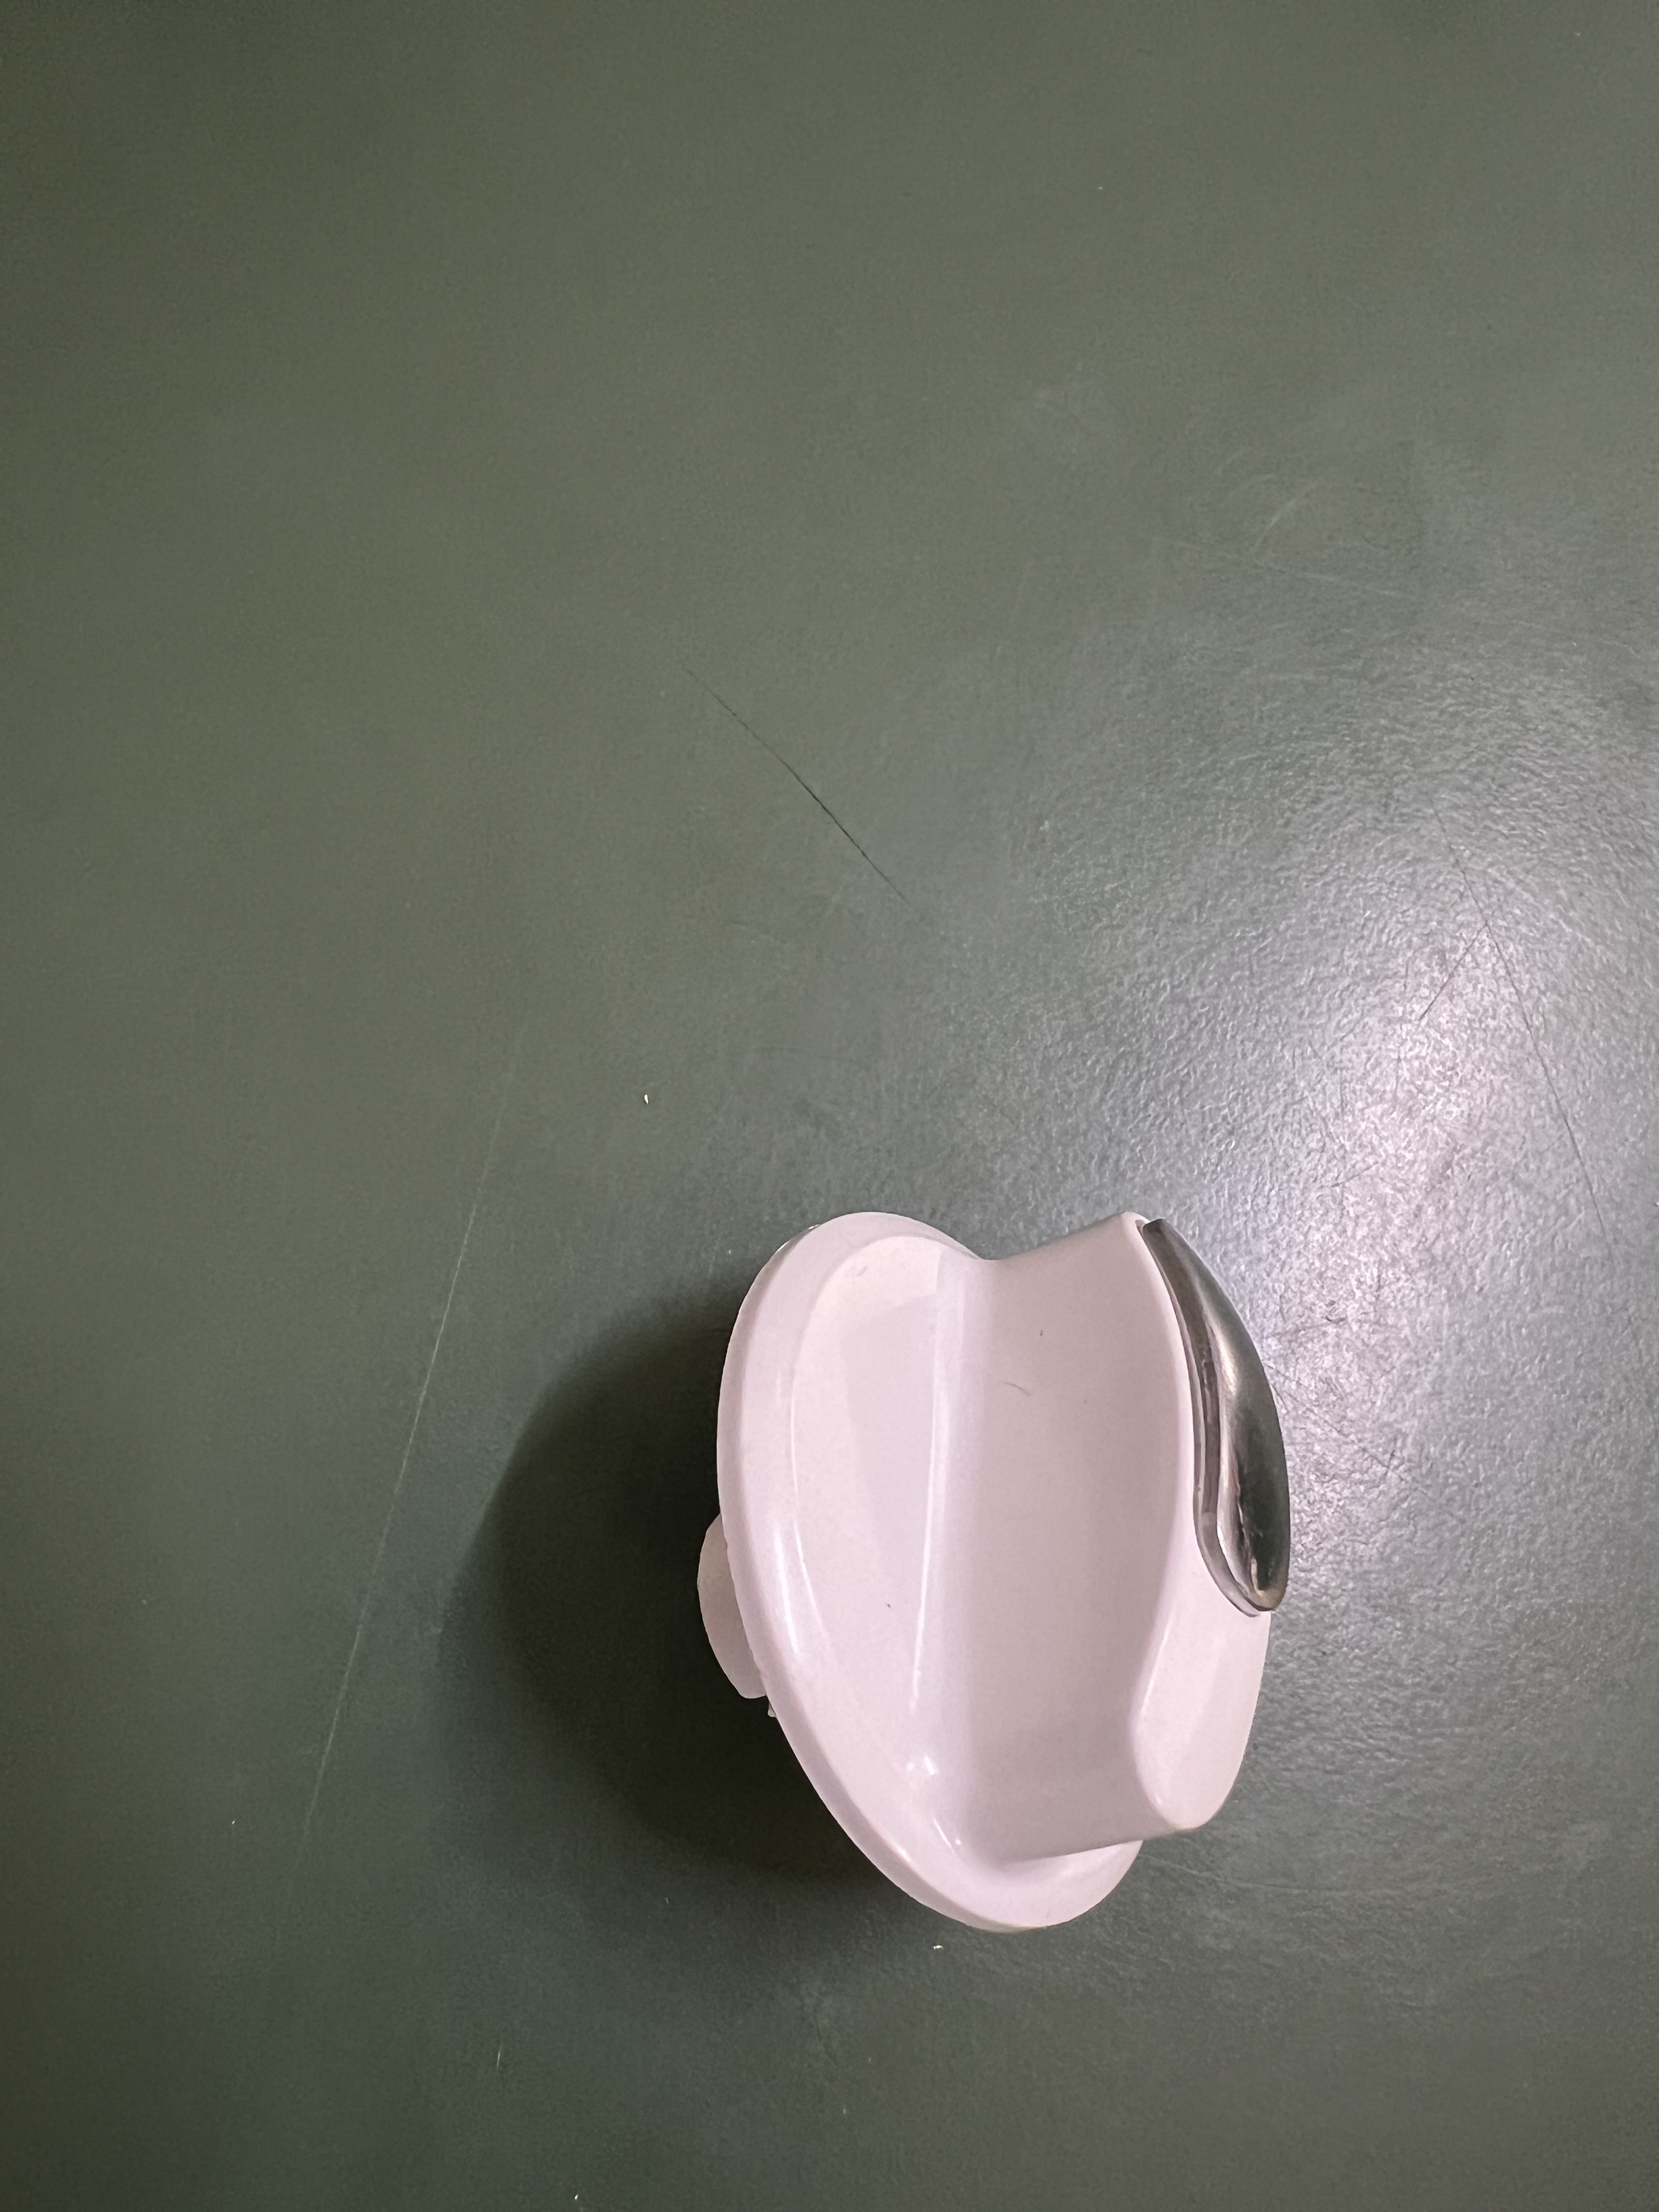regulator: (675, 1189, 1318, 1962)
